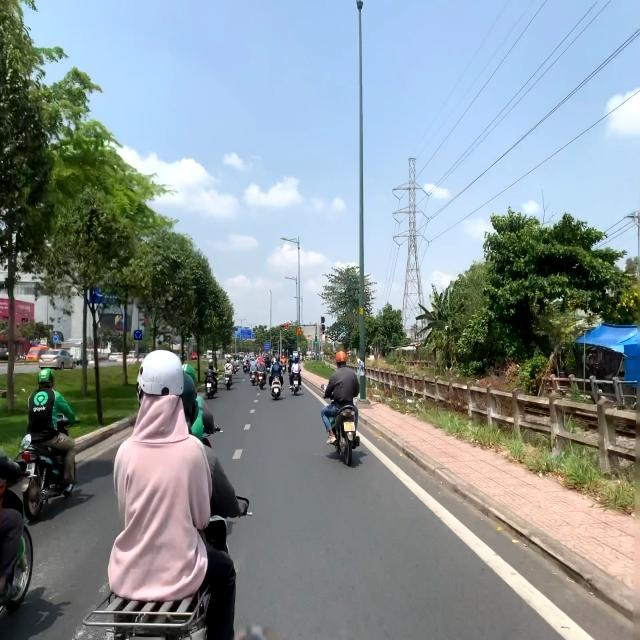bien_nguy_hiem: (134, 330, 142, 340), (296, 327, 303, 335), (53, 335, 59, 343)
